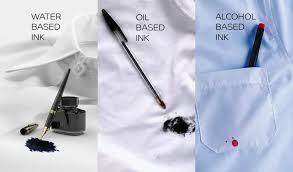ink: (25, 137, 57, 154), (164, 117, 192, 134), (231, 140, 237, 147)
